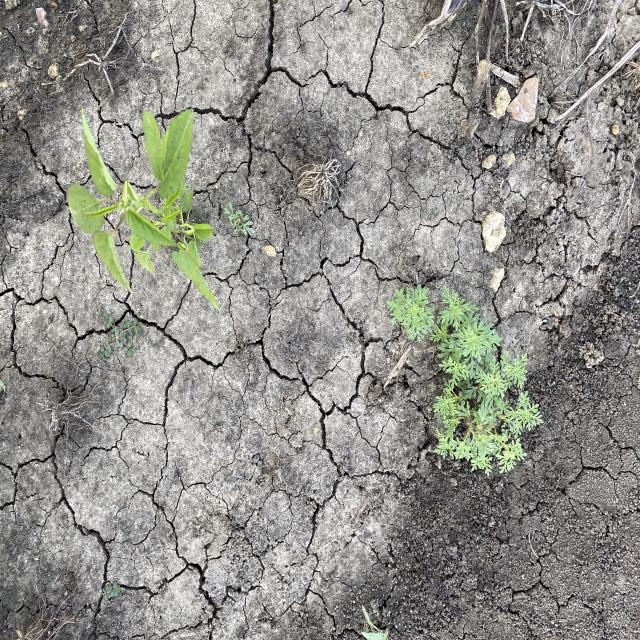PricklySida: (65, 102, 223, 316)
Ragweed: (384, 279, 546, 478), (222, 202, 258, 240)
SpottedSpurge: (94, 308, 145, 359)
